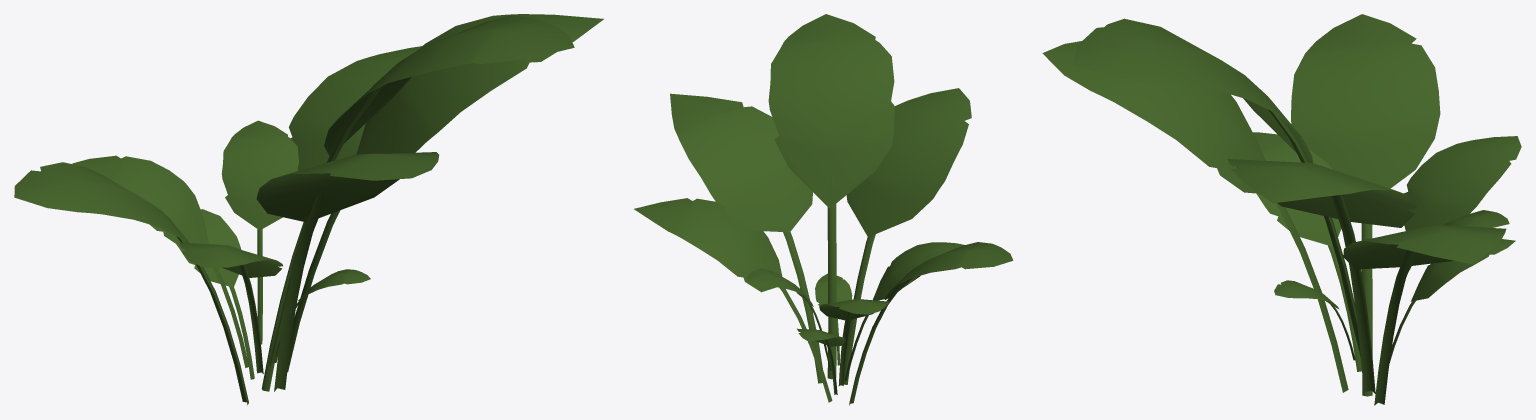
Rendered from Palm_L.fbx.
3 views of the same model, side by side, from view 1: azimuth 30°, elevation 25°; view 2: azimuth 150°, elevation 25°; view 3: azimuth 270°, elevation 25° (orthographic). The views are drawn at different scales.
Visible parts, largest first — view 1: leaf; view 2: leaf; view 3: leaf.
Part boxes in pixels (x1,y1,x2,y2): leaf: (14,14,603,405); leaf: (634,14,1013,405); leaf: (1042,14,1521,405).
Bounding box in the file's own units: 6498 × 4778 × 4913.
